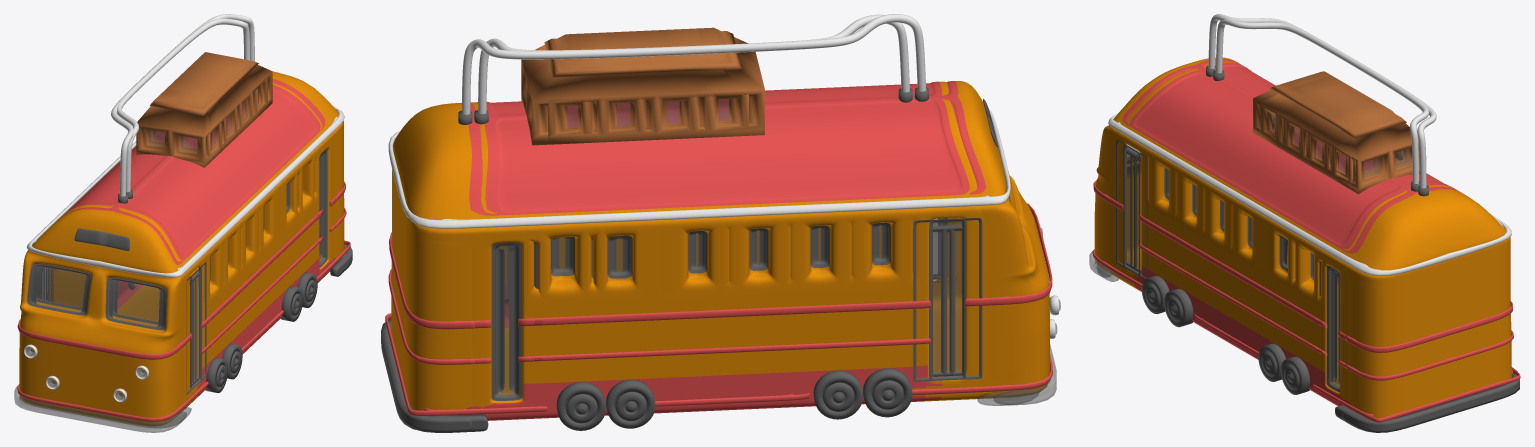
Rendered from tram-3d-animated-icon-332889183701.glb.
3 renders of one model, left to right at view 1: azimuth 30°, elevation 25°; view 2: azimuth 150°, elevation 25°; view 3: azimuth 270°, elevation 25°, orthographic. The views are drawn at different scales.
Visible parts, largest first — view 1: lamp, body, body up, body.007, iron, body.001, door, tire.006, tire.014, tire.002, tire.010, body.008; view 2: body, lamp, body up, door, body.001, body.007, iron, body.009, tire.008, tire, tire.004, tire.012 (+2 smaller); view 3: body, lamp, body up, body.001, body.009, body.007, iron, door, body.004, tire.010, tire.002, tire.014 (+1 smaller).
Part boxes in pixels (x1,y1,x2,y2): lamp: (14,18,347,432); body: (36,71,344,405); body up: (148,52,272,156); body.007: (32,106,344,269); iron: (117,14,254,198); body.001: (52,181,346,345); door: (41,262,206,390); tire.006: (280,286,303,321); tire.014: (205,357,227,392); tire.002: (297,272,317,307); tire.010: (222,343,242,379); body.008: (20,398,191,427); body: (391,81,988,420); lamp: (424,14,1060,432); body up: (521,28,748,145); door: (913,218,965,381); body.001: (388,232,912,364); body.007: (388,131,989,228); iron: (458,14,912,124); body.009: (381,318,471,432); tire.008: (813,370,863,419); tire: (556,382,606,430); tire.004: (606,379,655,428); tire.012: (862,368,912,417); body: (1114,61,1511,418); lamp: (1089,14,1512,420); body up: (1260,75,1419,194); body.001: (1147,219,1513,380); body.009: (1342,367,1519,432); body.007: (1118,122,1511,275); iron: (1213,19,1436,196); door: (1123,144,1147,279); body.004: (1321,368,1520,422); tire.010: (1164,288,1193,327); tire.002: (1281,356,1309,394); tire.014: (1141,275,1169,314).
Size of the model in its own units: 2.73 by 1.61 by 2.35.
